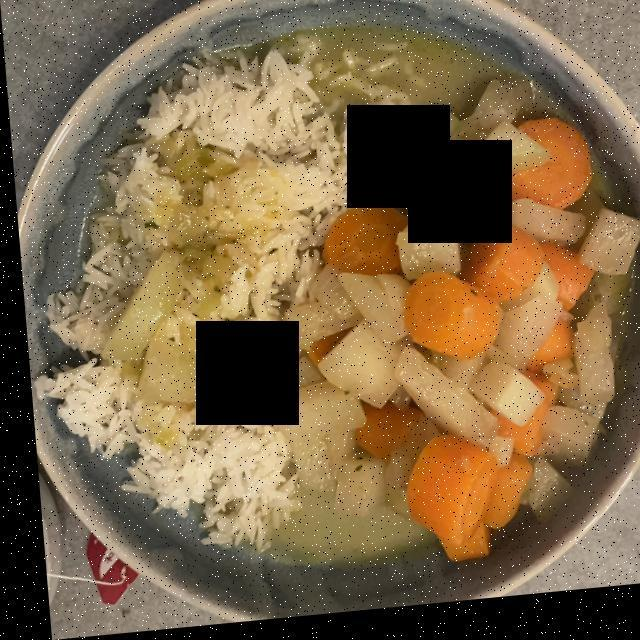bouillon: (265, 34, 526, 556)
mixed-vegetables: (288, 96, 626, 558)
